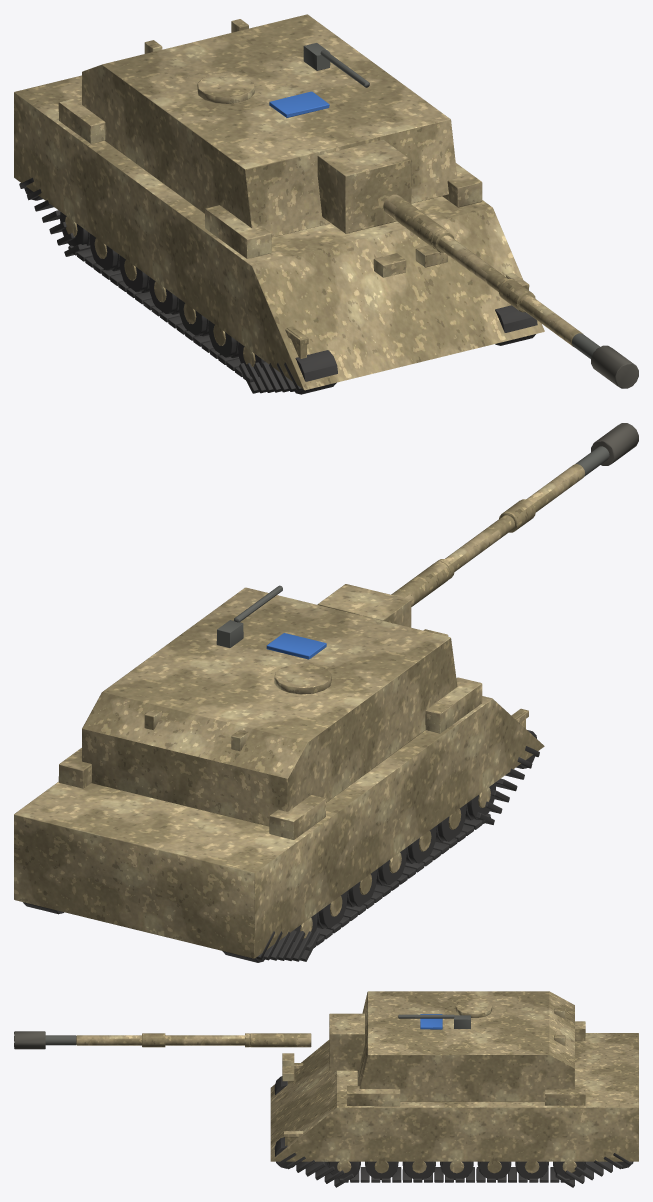
The model's file is art_e4_us_sph_LOD1.glb.
The picture shows the model from 3 angles, top to bottom: view 1: azimuth 30°, elevation 25°; view 2: azimuth 150°, elevation 25°; view 3: azimuth 270°, elevation 25°; orthographic projection. The views are drawn at different scales.
Parts seen in each view (by area): view 1: art_e4_us_sph_LOD1_body, art_e4_us_sph_LOD1_track, art_e4_us_sph_LOD1_gun, art_e4_us_sph_LOD1_deck, art_e4_us_sph_LOD1_team; view 2: art_e4_us_sph_LOD1_body, art_e4_us_sph_LOD1_track, art_e4_us_sph_LOD1_gun, art_e4_us_sph_LOD1_deck, art_e4_us_sph_LOD1_team; view 3: art_e4_us_sph_LOD1_body, art_e4_us_sph_LOD1_track, art_e4_us_sph_LOD1_gun, art_e4_us_sph_LOD1_deck, art_e4_us_sph_LOD1_team.
Boxes of the visible parts, <box> form: art_e4_us_sph_LOD1_body: <box>14,14,582,390</box>; art_e4_us_sph_LOD1_track: <box>19,177,537,394</box>; art_e4_us_sph_LOD1_gun: <box>303,43,599,358</box>; art_e4_us_sph_LOD1_deck: <box>591,345,638,388</box>; art_e4_us_sph_LOD1_team: <box>269,91,329,117</box>; art_e4_us_sph_LOD1_body: <box>14,464,584,958</box>; art_e4_us_sph_LOD1_track: <box>23,730,539,962</box>; art_e4_us_sph_LOD1_gun: <box>216,446,609,647</box>; art_e4_us_sph_LOD1_deck: <box>591,423,638,465</box>; art_e4_us_sph_LOD1_team: <box>266,633,326,659</box>; art_e4_us_sph_LOD1_body: <box>76,991,638,1173</box>; art_e4_us_sph_LOD1_track: <box>274,1076,633,1187</box>; art_e4_us_sph_LOD1_gun: <box>45,1014,470,1045</box>; art_e4_us_sph_LOD1_deck: <box>14,1031,45,1049</box>; art_e4_us_sph_LOD1_team: <box>420,1014,442,1029</box>.
Bounding box in the file's own units: 3.45 × 3.22 × 12.21.
6 materials, 1 textured.
